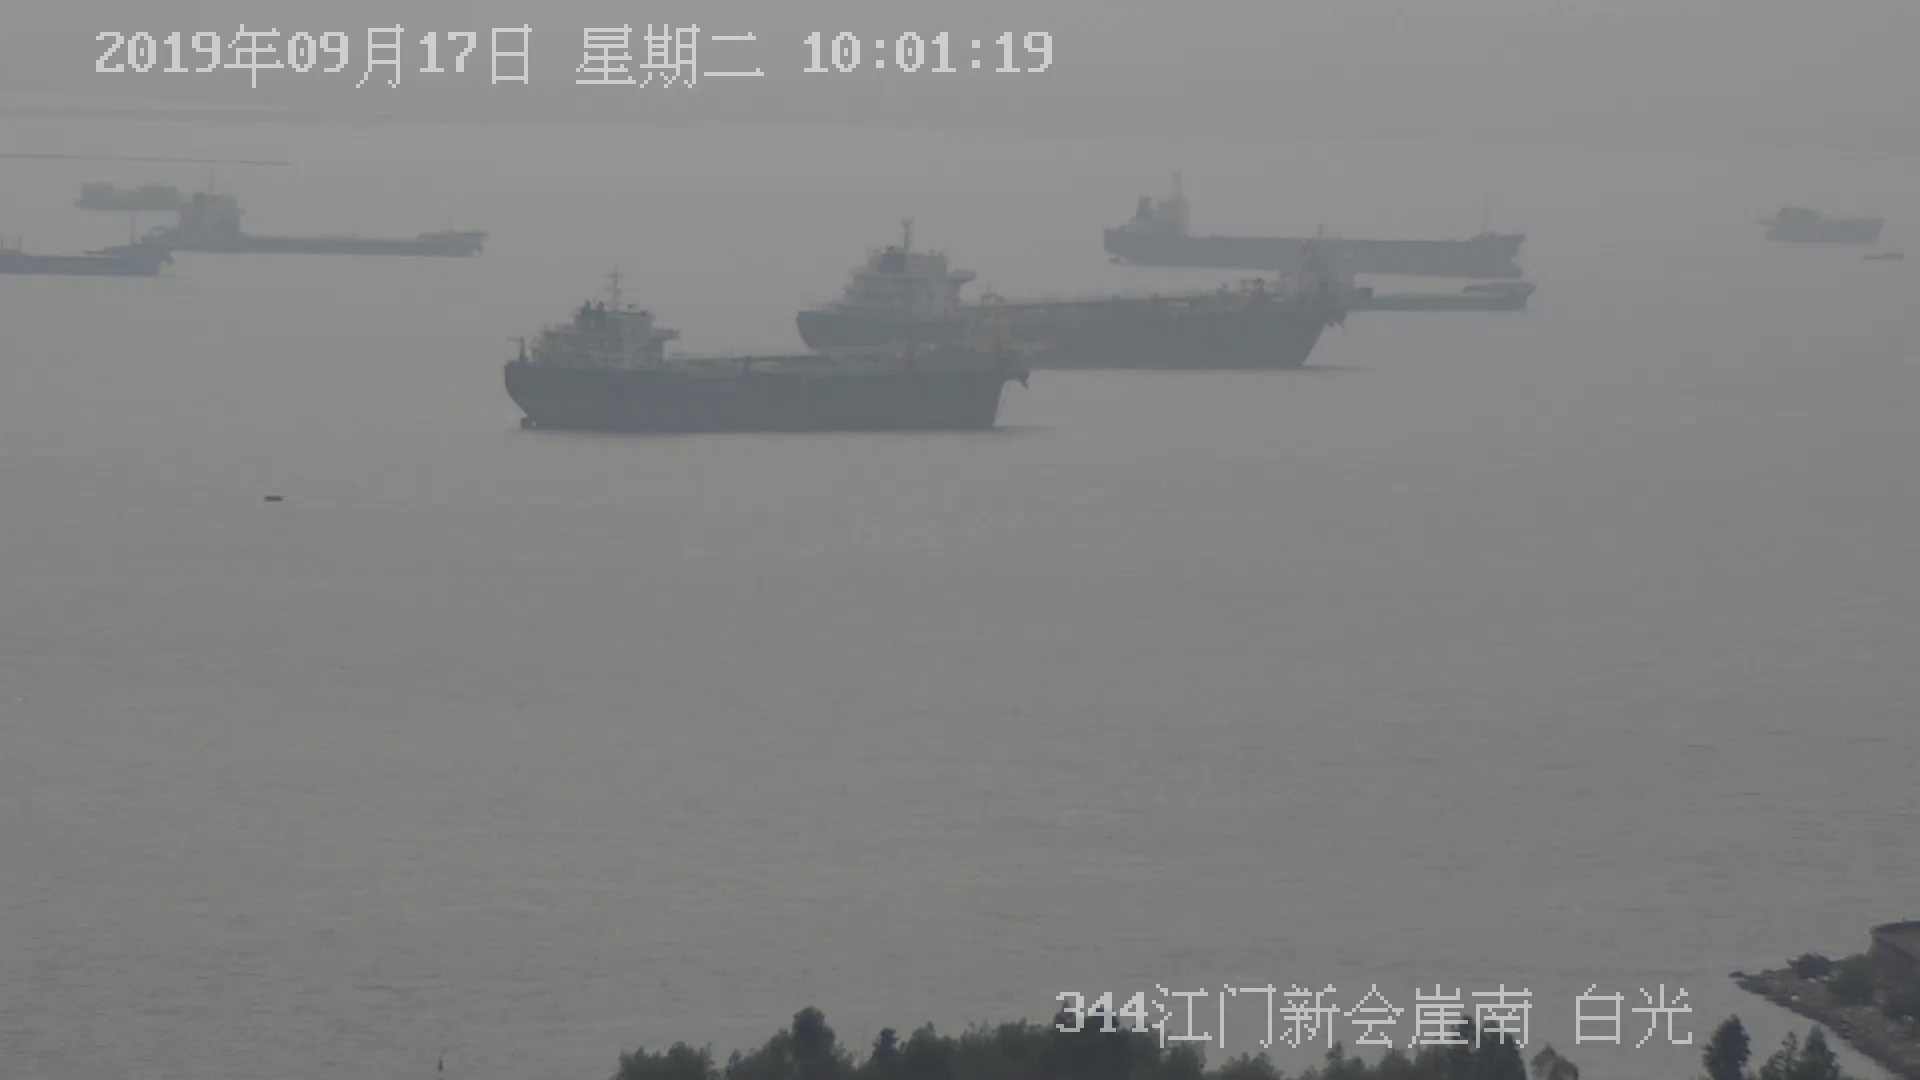ship: (793, 224, 1370, 367), (506, 273, 1033, 429), (1110, 178, 1524, 272), (148, 186, 487, 260), (1278, 243, 1530, 315), (1755, 200, 1888, 253), (4, 237, 165, 277)
